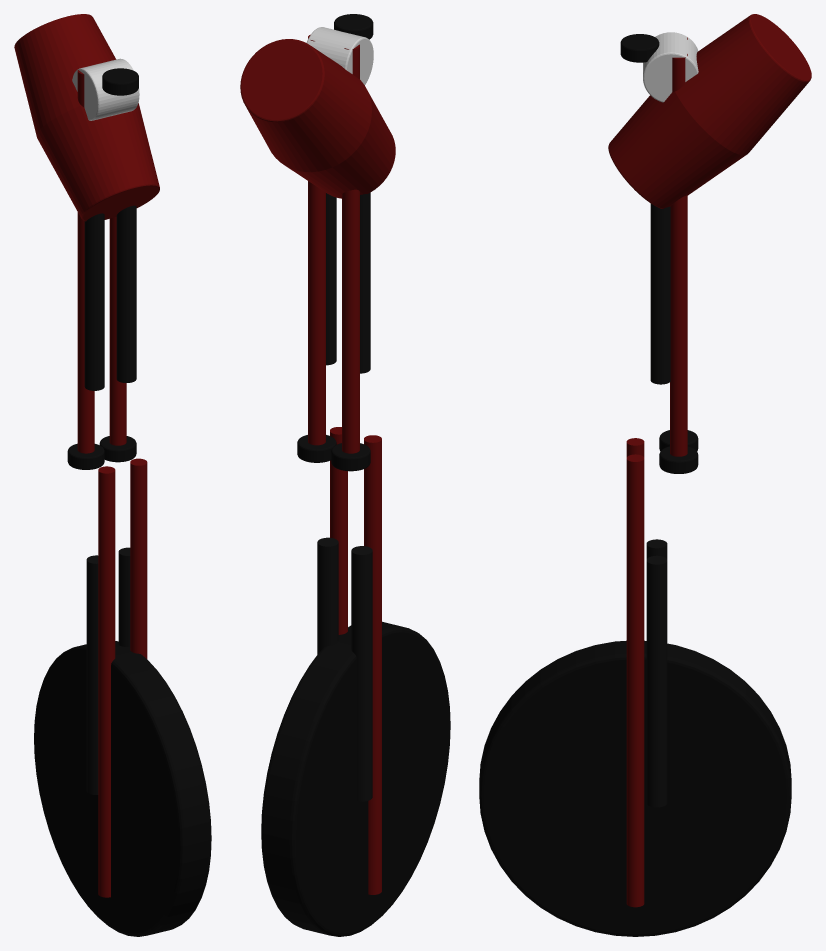
File: Anglepoise_task_lamp.obj
3 views of the same model, side by side, from view 1: azimuth 30°, elevation 25°; view 2: azimuth 150°, elevation 25°; view 3: azimuth 270°, elevation 25° (orthographic). The views are drawn at different scales.
Parts seen in each view (by area): view 1: base, shade, arm.lower_1, spring.upper_1, spring.upper_2, arm.lower_2, spring.lower_1, arm.upper_1, arm.upper_2, shade.holder, spring.lower_2, pivot.shade (+2 smaller); view 2: base, shade, arm.lower_1, arm.upper_1, spring.lower_1, arm.upper_2, arm.lower_2, spring.lower_2, spring.upper_1, shade.holder, spring.upper_2, pivot.elbow_1 (+2 smaller); view 3: base, shade, arm.lower_2, spring.lower_2, arm.upper_2, spring.upper_2, shade.holder, pivot.shade, pivot.elbow_2.
Part boxes in pixels (bbox=[...]): base: bbox=[34, 641, 211, 936]; shade: bbox=[14, 14, 159, 221]; arm.lower_1: bbox=[98, 466, 115, 897]; spring.upper_1: bbox=[84, 213, 104, 390]; spring.upper_2: bbox=[116, 205, 136, 382]; arm.lower_2: bbox=[130, 458, 147, 658]; spring.lower_1: bbox=[86, 555, 98, 794]; arm.upper_1: bbox=[77, 70, 94, 453]; arm.upper_2: bbox=[109, 60, 126, 445]; shade.holder: bbox=[72, 58, 139, 120]; spring.lower_2: bbox=[118, 547, 130, 646]; pivot.shade: bbox=[102, 68, 138, 95]; base: bbox=[261, 621, 450, 936]; shade: bbox=[240, 39, 395, 198]; arm.lower_1: bbox=[364, 435, 381, 894]; arm.upper_1: bbox=[342, 44, 359, 453]; spring.lower_1: bbox=[351, 546, 372, 801]; arm.upper_2: bbox=[308, 34, 325, 445]; arm.lower_2: bbox=[330, 427, 347, 634]; spring.lower_2: bbox=[317, 537, 338, 654]; spring.upper_1: bbox=[360, 192, 370, 373]; shade.holder: bbox=[306, 27, 373, 85]; spring.upper_2: bbox=[326, 193, 336, 365]; pivot.elbow_1: bbox=[331, 443, 370, 471]; base: bbox=[479, 640, 791, 936]; shade: bbox=[608, 14, 811, 208]; arm.lower_2: bbox=[626, 454, 644, 907]; spring.lower_2: bbox=[646, 555, 667, 807]; arm.upper_2: bbox=[670, 54, 687, 456]; spring.upper_2: bbox=[650, 203, 670, 384]; shade.holder: bbox=[643, 32, 698, 102]; pivot.shade: bbox=[620, 34, 659, 62]; pivot.elbow_2: bbox=[659, 446, 698, 473].
Size of the model in its own units: 0.0763 by 0.675 by 0.2234.
